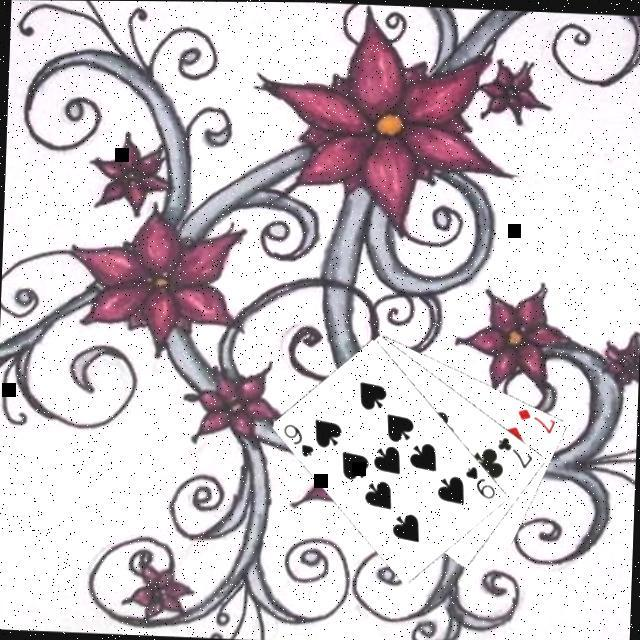7C: (492, 432, 535, 470)
7D: (512, 402, 558, 434)
9S: (460, 460, 498, 500), (278, 419, 316, 458)
